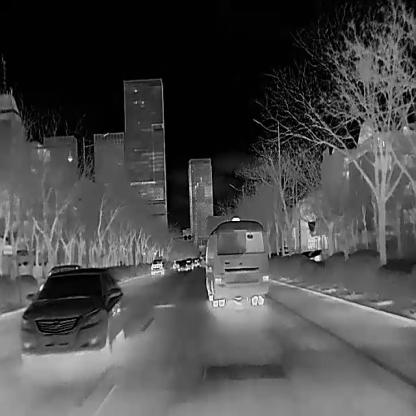bus: (201, 216, 268, 306)
car: (16, 265, 124, 371), (148, 258, 164, 274), (176, 259, 188, 271), (186, 257, 193, 269)
